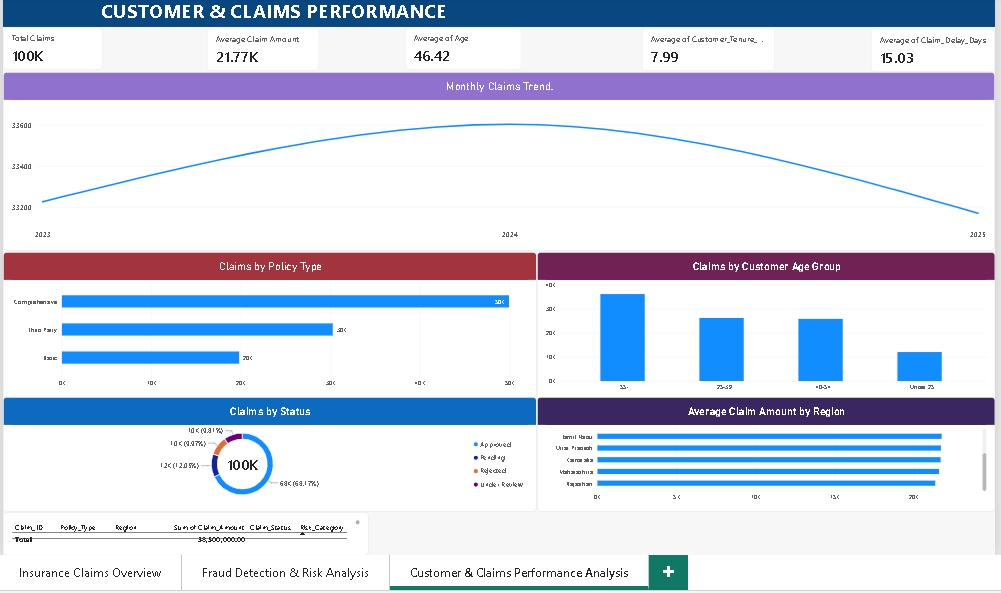

The page's visual inventory and layout, read from the dashboard file:
{"tool":"powerbi","page":{"name":"\tCustomer & Claims Performance Analysis","canvas":[1920,1080],"ordinal":2},"visuals":[{"type":"cardVisual","fields":{"Data":["insurance_claims_cleaned.Total Claims"]},"box":[0,58,192.6,83.3],"z":0},{"type":"cardVisual","fields":{"Data":["insurance_claims_cleaned.Average Claim Amount"]},"box":[394,60,216.7,83.3],"z":1000},{"type":"cardVisual","fields":{"Data":["Avg(insurance_claims_cleaned.Age)"]},"box":[778,58,225.9,83.3],"z":2000},{"type":"cardVisual","fields":{"Data":["Avg(insurance_claims_cleaned.Customer_Tenure_Years)"]},"box":[1236,60,257.4,83.3],"z":3000},{"type":"cardVisual","fields":{"Data":["Avg(insurance_claims_cleaned.Claim_Delay_Days)"]},"box":[1680,62,240.7,83.3],"z":4000},{"type":"textbox","box":[0,0,1920,58],"z":5000},{"type":"lineChart","title":"Monthly Claims Trend.","fields":{"Category":["insurance_claims_cleaned.Claim_Date.Variation.Date Hierarchy.Year","insurance_claims_cleaned.Claim_Date.Variation.Date Hierarchy.Quarter","insurance_claims_cleaned.Claim_Date.Variation.Date Hierarchy.Month","insurance_claims_cleaned.Claim_Date.Variation.Date Hierarchy.Day"],"Y":["insurance_claims_cleaned.Total Claims"]},"box":[0,146,1920,346],"z":6000},{"type":"clusteredBarChart","title":"Claims by Policy Type","fields":{"Category":["insurance_claims_cleaned.Policy_Type"],"Y":["insurance_claims_cleaned.Total Claims"]},"box":[0,492.6,1033.3,281.5],"z":7000},{"type":"clusteredColumnChart","title":"Claims by Customer Age Group","fields":{"Category":["insurance_claims_cleaned.Age Group"],"Y":["insurance_claims_cleaned.Total Claims"]},"box":[1033.3,492.6,887,290.7],"z":8000},{"type":"donutChart","title":"Claims by Status","fields":{"Category":["insurance_claims_cleaned.Claim_Status"],"Y":["insurance_claims_cleaned.Total Claims"]},"box":[0,774.1,1033.3,222.2],"z":9000},{"type":"clusteredBarChart","title":"Average Claim Amount by Region","fields":{"Category":["insurance_claims_cleaned.Region"],"Y":["insurance_claims_cleaned.Average Claim Amount"]},"box":[1033.3,774.1,887,222.2],"z":10000},{"type":"tableEx","fields":{"Values":["insurance_claims_cleaned.Claim_ID","insurance_claims_cleaned.Policy_Type","insurance_claims_cleaned.Region","Sum(insurance_claims_cleaned.Claim_Amount)","insurance_claims_cleaned.Claim_Status","insurance_claims_cleaned.Risk_Category"]},"box":[0,996.2,707.5,83.8],"z":11000}]}

Visuals, with their boxes on the page's 1920x1080 design canvas (x1, y1, x2, y2). These are canvas units, not pixel positions in the 1001x593 screenshot, which may show the page scaled, cropped or inside an application window:
cardVisual - insurance_claims_cleaned.Total Claims: {"left": 0, "top": 58, "right": 193, "bottom": 141}
cardVisual - insurance_claims_cleaned.Average Claim Amount: {"left": 394, "top": 60, "right": 611, "bottom": 143}
cardVisual - Avg(insurance_claims_cleaned.Age): {"left": 778, "top": 58, "right": 1004, "bottom": 141}
cardVisual - Avg(insurance_claims_cleaned.Customer_Tenure_Years): {"left": 1236, "top": 60, "right": 1493, "bottom": 143}
cardVisual - Avg(insurance_claims_cleaned.Claim_Delay_Days): {"left": 1680, "top": 62, "right": 1921, "bottom": 145}
textbox: {"left": 0, "top": 0, "right": 1920, "bottom": 58}
"Monthly Claims Trend." lineChart: {"left": 0, "top": 146, "right": 1920, "bottom": 492}
"Claims by Policy Type" clusteredBarChart: {"left": 0, "top": 493, "right": 1033, "bottom": 774}
"Claims by Customer Age Group" clusteredColumnChart: {"left": 1033, "top": 493, "right": 1920, "bottom": 783}
"Claims by Status" donutChart: {"left": 0, "top": 774, "right": 1033, "bottom": 996}
"Average Claim Amount by Region" clusteredBarChart: {"left": 1033, "top": 774, "right": 1920, "bottom": 996}
tableEx - insurance_claims_cleaned.Claim_ID x insurance_claims_cleaned.Policy_Type: {"left": 0, "top": 996, "right": 708, "bottom": 1080}
